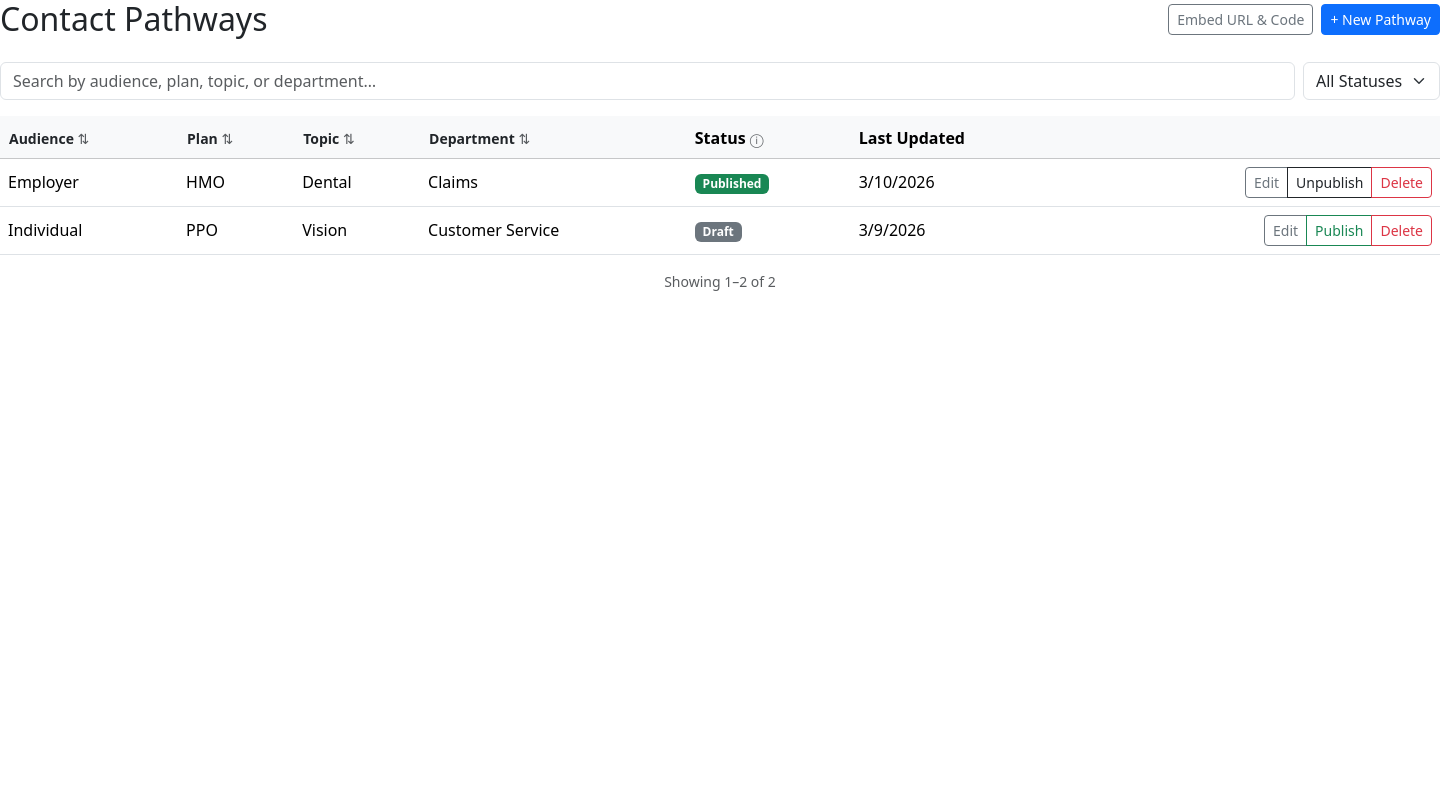
PathwaysListPage › Actions — admin only › opens confirm dialog on Delete click
This screenshot has width=1440, height=810.
Step 1. Click the button "Delete" in the row of "Employer" → (1402, 182), box [1371,166,1432,198]
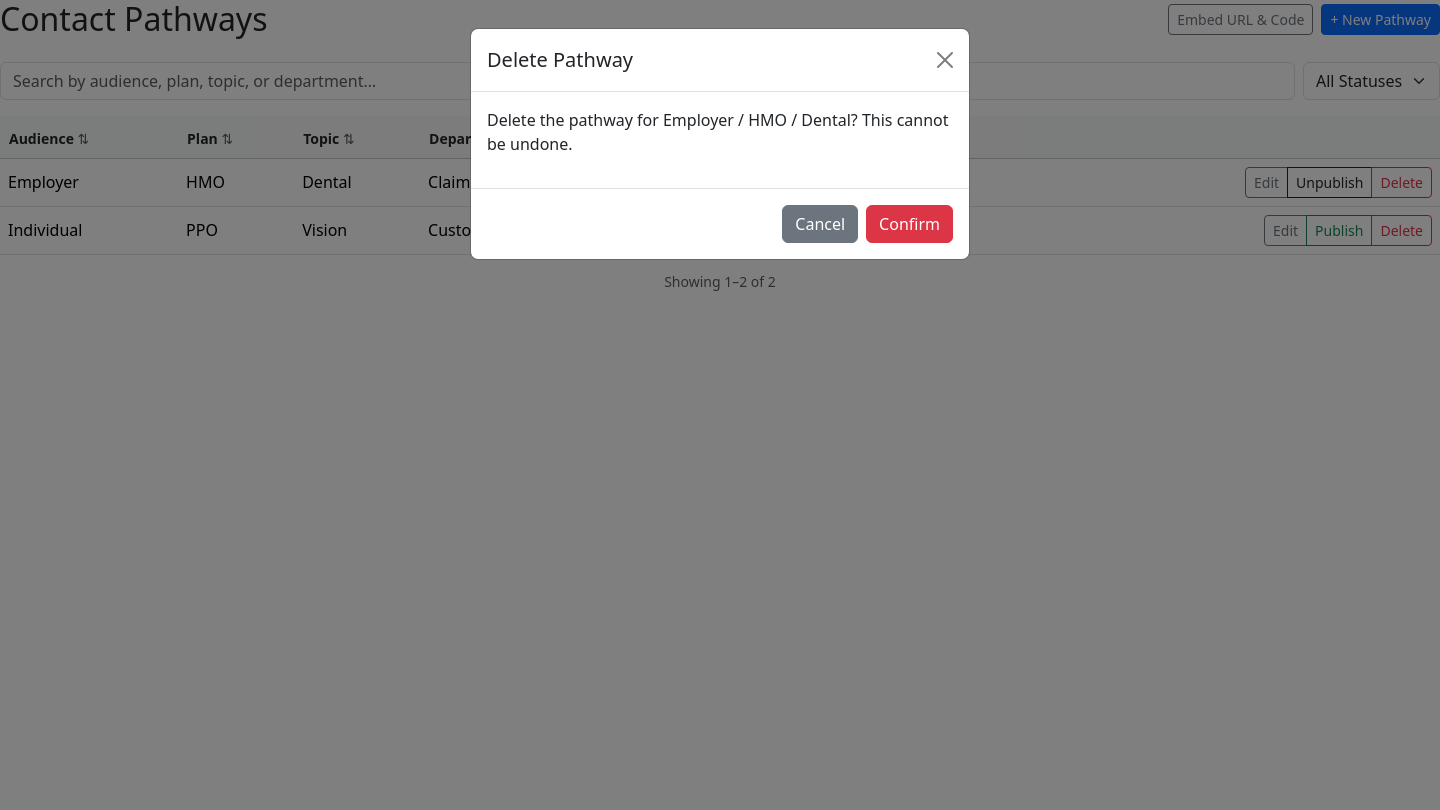
Expected: the heading "Delete Pathway" is shown, [487,45,633,75]
